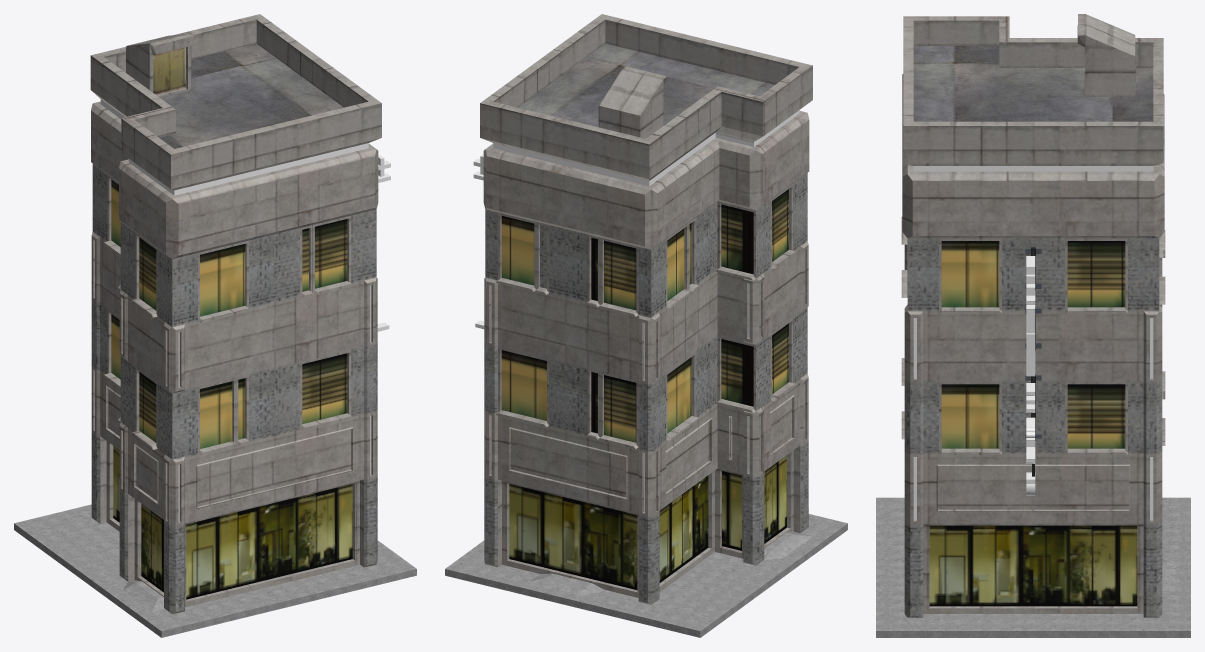
The model's file is Building3.fbx.
3 views of the same model, side by side, from view 1: azimuth 30°, elevation 25°; view 2: azimuth 150°, elevation 25°; view 3: azimuth 270°, elevation 25° (orthographic). The views are drawn at different scales.
Visible parts, largest first — view 1: Building3_1; view 2: Building3_1; view 3: Building3_1, Building3Sign_1.
Part boxes in pixels (x1=…): Building3_1: x1=14, y1=14, x2=416, y2=637; Building3_1: x1=445, y1=14, x2=847, y2=637; Building3_1: x1=876, y1=14, x2=1190, y2=637; Building3Sign_1: x1=1025, y1=247, x2=1041, y2=495.
Bounding box in the file's own units: 469 × 751 × 400.
2 materials, 2 textured.
